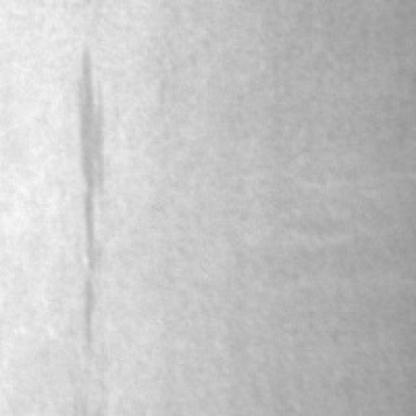inclusion: (63, 35, 118, 370)
